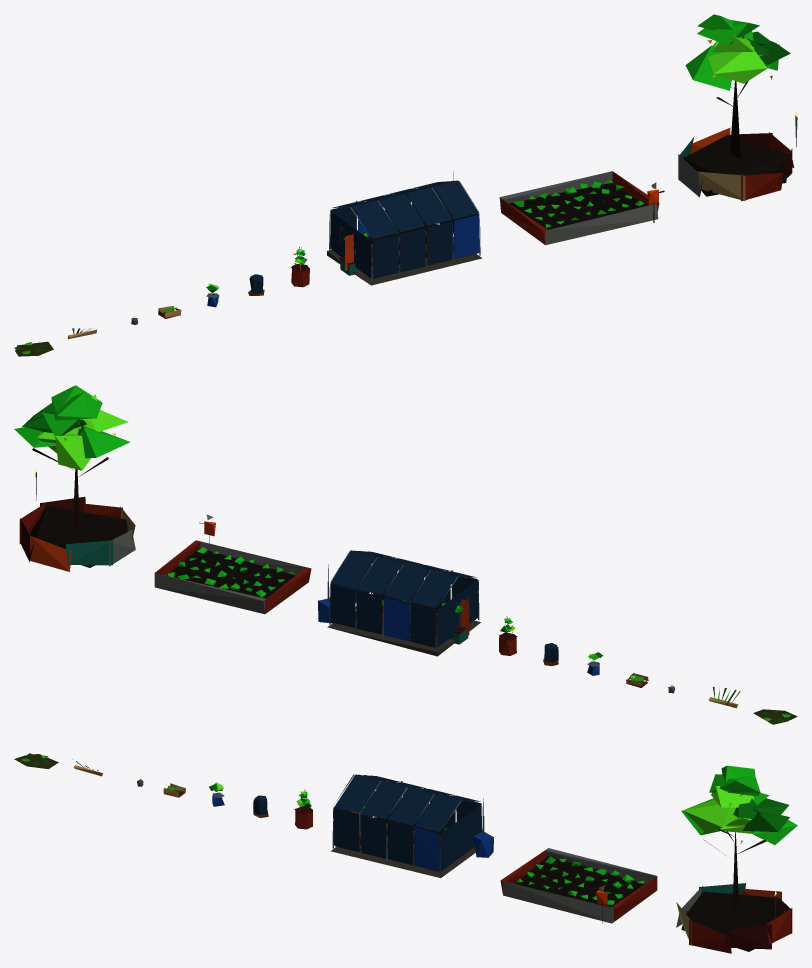
The model's file is tb_flora_kit.three-web-toon.lod25.glb.
The picture shows the model from 3 angles, top to bottom: view 1: azimuth 30°, elevation 25°; view 2: azimuth 150°, elevation 25°; view 3: azimuth 330°, elevation 25°; orthographic projection.
Parts seen in each view (by area): view 1: greenhouse_lod, last_tree_lod, garden_plot_lod; view 2: last_tree_lod, greenhouse_lod, garden_plot_lod; view 3: greenhouse_lod, last_tree_lod, garden_plot_lod, flora_fruit_lod, flora_algae_lod.
Boxes of the visible parts, x1=… form: greenhouse_lod: x1=327, y1=171, x2=482, y2=285; last_tree_lod: x1=678, y1=14, x2=797, y2=201; garden_plot_lod: x1=499, y1=171, x2=664, y2=245; last_tree_lod: x1=14, y1=385, x2=135, y2=571; greenhouse_lod: x1=318, y1=550, x2=480, y2=656; garden_plot_lod: x1=154, y1=514, x2=311, y2=614; greenhouse_lod: x1=331, y1=774, x2=493, y2=877; last_tree_lod: x1=676, y1=765, x2=797, y2=953; garden_plot_lod: x1=500, y1=848, x2=657, y2=923; flora_fruit_lod: x1=294, y1=789, x2=312, y2=829; flora_algae_lod: x1=14, y1=753, x2=58, y2=768.
Bounding box in the file's own units: 44.58 × 8.9 × 5.59.
